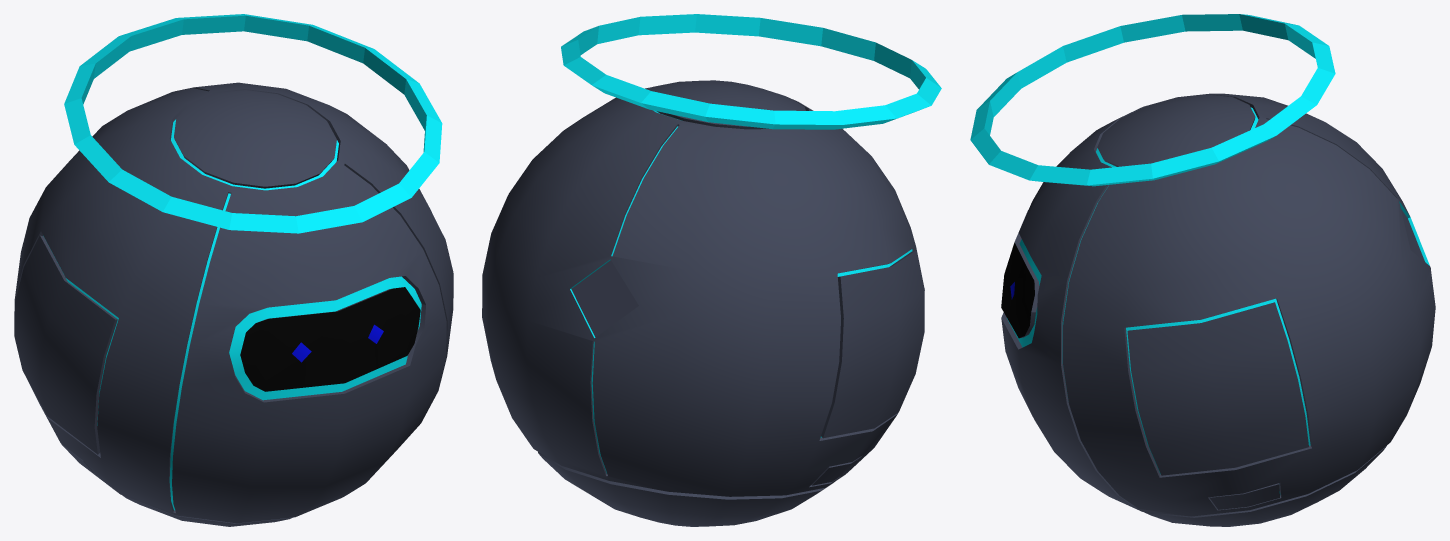
File: cyklo.glb
3 renders of one model, left to right at view 1: azimuth 30°, elevation 25°; view 2: azimuth 150°, elevation 25°; view 3: azimuth 270°, elevation 25°, orthographic. The views are drawn at different scales.
Parts seen in each view (by area): view 1: Sphere, ring; view 2: Sphere, ring; view 3: Sphere, ring.
Boxes of the visible parts, x1=… form: Sphere: x1=14, y1=82, x2=453, y2=526; ring: x1=64, y1=14, x2=442, y2=233; Sphere: x1=482, y1=80, x2=924, y2=526; ring: x1=561, y1=14, x2=941, y2=129; Sphere: x1=1001, y1=93, x2=1435, y2=526; ring: x1=970, y1=14, x2=1335, y2=186.
Bounding box in the file's own units: 0.4208 × 0.4694 × 0.4499.
